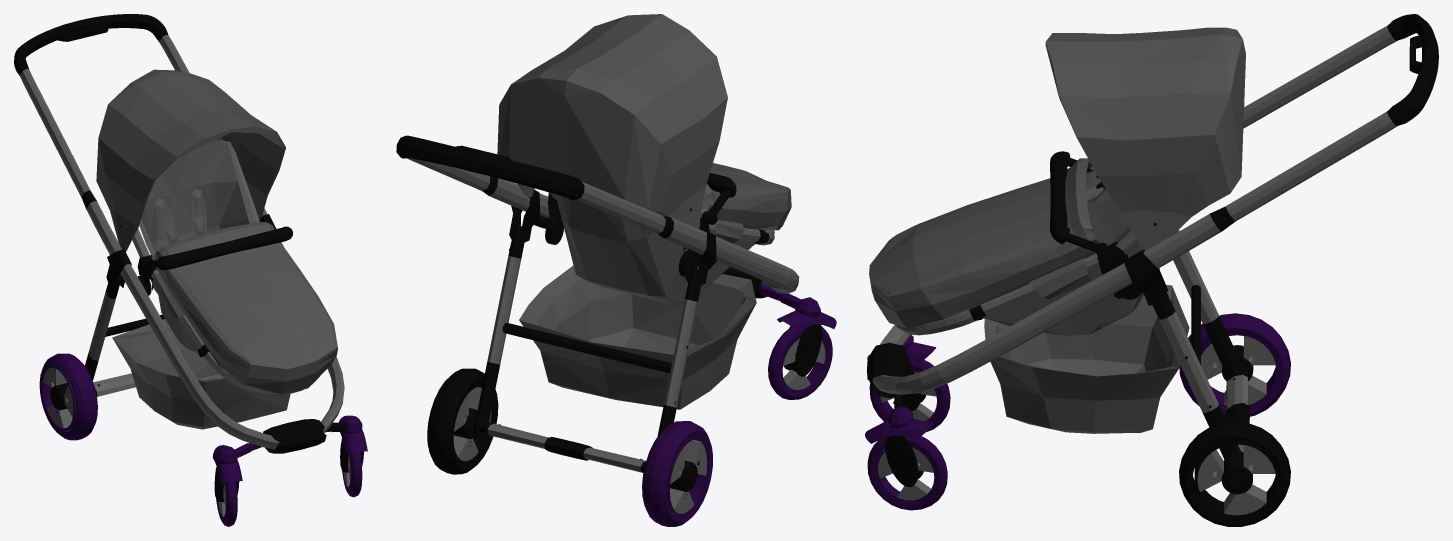
File: pram.FBX
3 views of the same model, side by side, from view 1: azimuth 30°, elevation 25°; view 2: azimuth 150°, elevation 25°; view 3: azimuth 270°, elevation 25° (orthographic). The views are drawn at different scales.
Visible parts, largest first — view 1: Object04, Object01; view 2: Object04, Object01; view 3: Object04, Object01.
Boxes of the visible parts, left/top/right/bottom form: Object04: left=96, top=69, right=337, bottom=429; Object01: left=14, top=14, right=367, bottom=526; Object04: left=497, top=14, right=791, bottom=409; Object01: left=396, top=135, right=836, bottom=526; Object04: left=869, top=27, right=1245, bottom=433; Object01: left=865, top=14, right=1438, bottom=526.
Bounding box in the file's own units: 1022 × 1679 × 2000.
